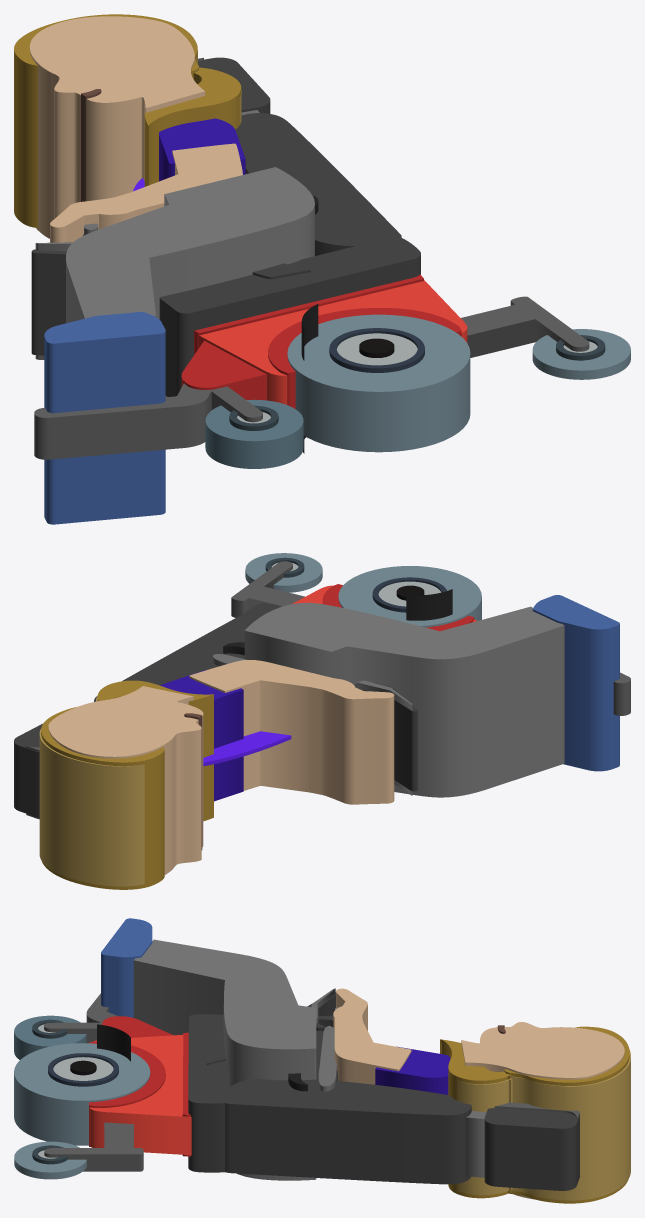
File: emoji_u1f469_1f3fc_200d_1f9bc.glb
The picture shows the model from 3 angles, top to bottom: view 1: azimuth 30°, elevation 25°; view 2: azimuth 150°, elevation 25°; view 3: azimuth 270°, elevation 25°; orthographic projection. The views are drawn at different scales.
Parts seen in each view (by area): view 1: emoji_u1f469_1f3fc_200d_1f9bc; view 2: emoji_u1f469_1f3fc_200d_1f9bc; view 3: emoji_u1f469_1f3fc_200d_1f9bc.
Boxes of the visible parts, x1,y1,x2,y2 form: emoji_u1f469_1f3fc_200d_1f9bc: (14,14,630,524); emoji_u1f469_1f3fc_200d_1f9bc: (14,553,630,889); emoji_u1f469_1f3fc_200d_1f9bc: (14,918,630,1203).
Size of the model in its own units: 0.0242 by 0.0078 by 0.0324.
